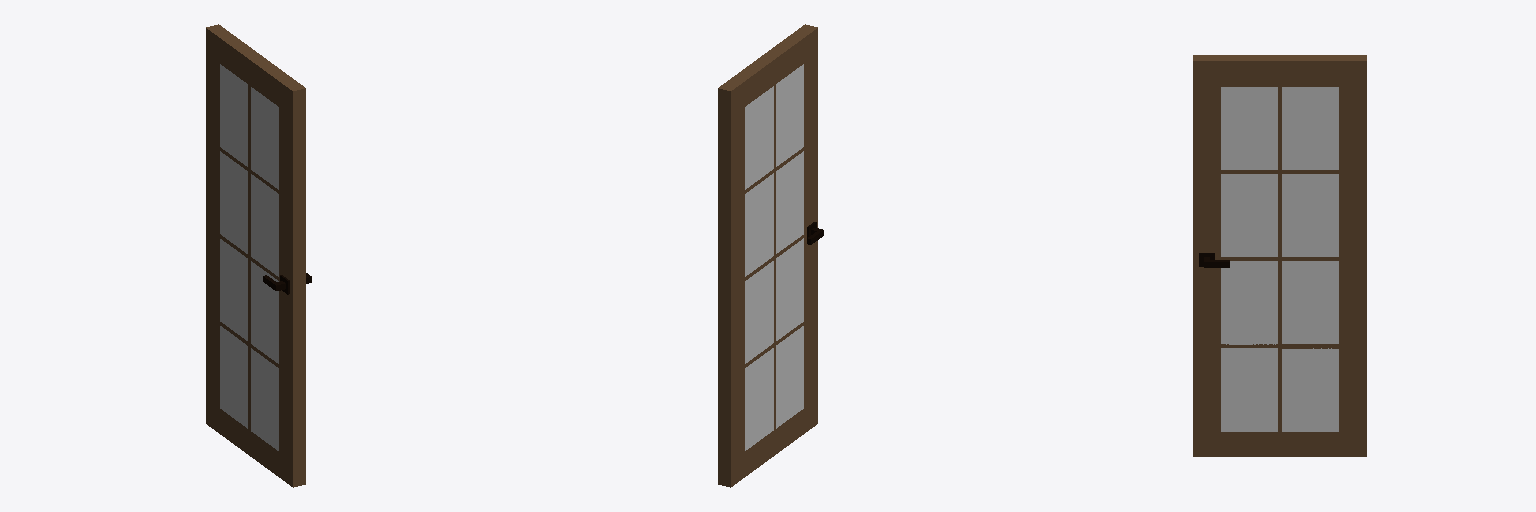
File: door802_brown.obj
3 renders of one model, left to right at view 1: azimuth 30°, elevation 25°; view 2: azimuth 150°, elevation 25°; view 3: azimuth 270°, elevation 25°, orthographic.
Parts seen in each view (by area): view 1: Cube; view 2: Cube; view 3: Cube.
Part boxes in pixels (bbox=[...]): Cube: bbox=[206, 24, 311, 487]; Cube: bbox=[718, 24, 823, 487]; Cube: bbox=[1193, 55, 1366, 456].
Bounding box in the file's own units: 0.1899 × 2 × 0.7997.